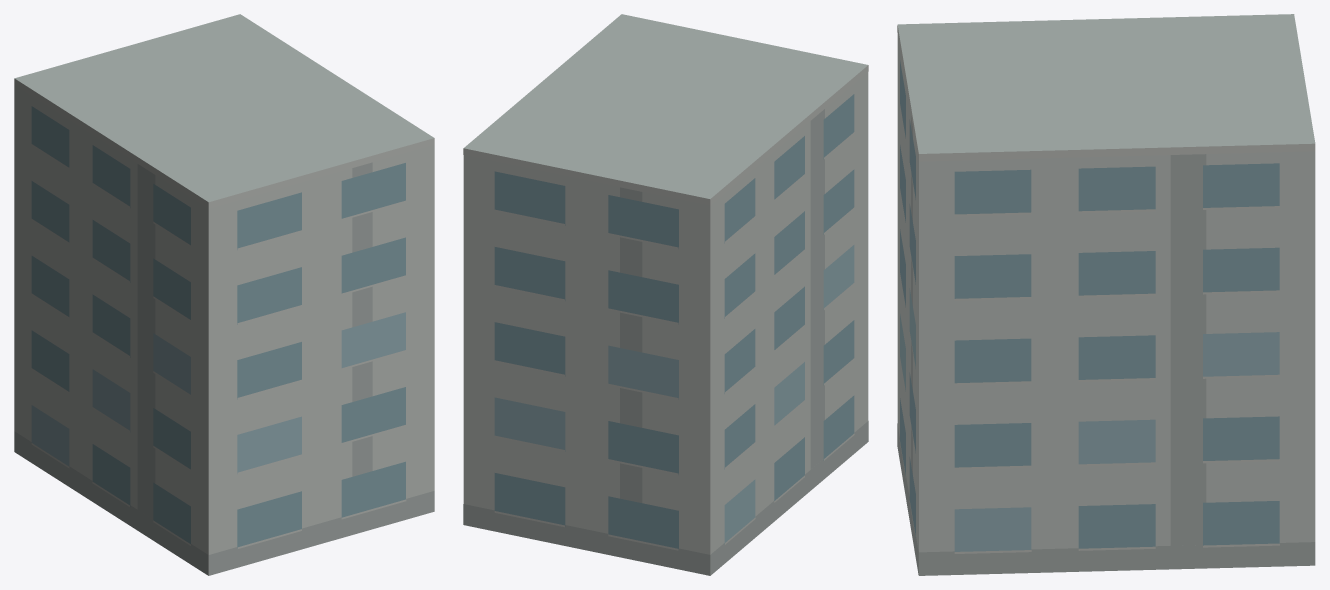
The model's file is survey-upis-32889414.glb.
3 views of the same model, side by side, from view 1: azimuth 30°, elevation 25°; view 2: azimuth 150°, elevation 25°; view 3: azimuth 270°, elevation 25° (orthographic). The views are drawn at different scales.
Visible parts, largest first — view 1: survey-upis-32889414.tmp; view 2: survey-upis-32889414.tmp; view 3: survey-upis-32889414.tmp.
Boxes of the visible parts, x1,y1,x2,y2 form: survey-upis-32889414.tmp: [14, 14, 434, 575]; survey-upis-32889414.tmp: [463, 14, 868, 575]; survey-upis-32889414.tmp: [897, 14, 1315, 575].
Size of the model in its own units: 9.64 by 13.53 by 12.16.
